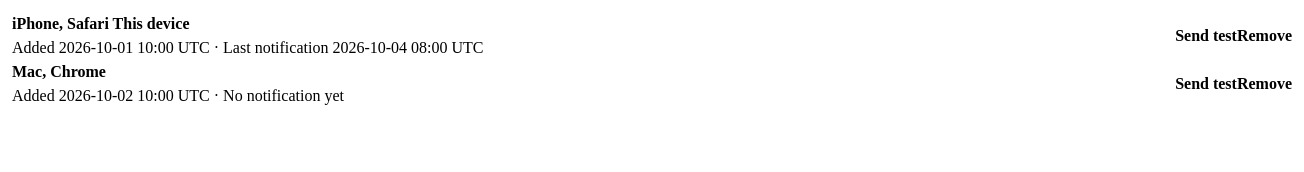
Test: DeviceList › offers a test per device only where a test is given, and shows its result
Click the button "Send test" in the row of "Mac, Chrome" at coordinates (1206, 84), box left=1175, top=72, right=1237, bottom=96
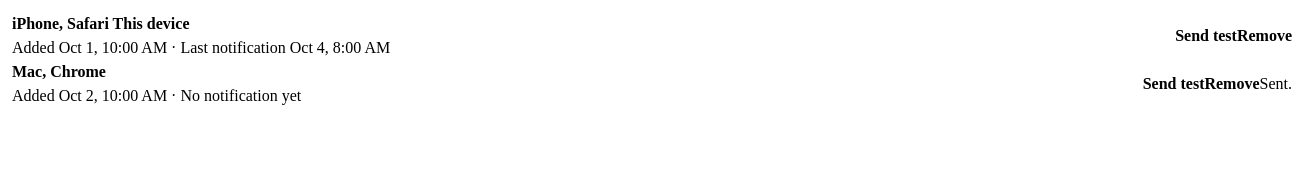
Check: the text "Sent." is shown, box left=1260, top=72, right=1292, bottom=96
